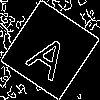A: (25, 25, 79, 83)
